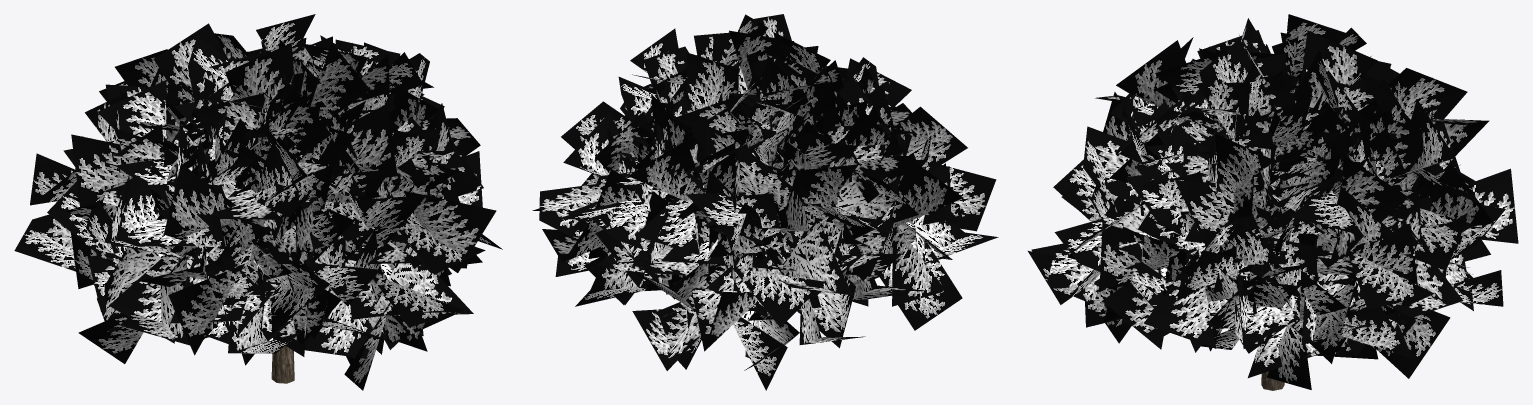
Rendered from tree.glb.
3 views of the same model, side by side, from view 1: azimuth 30°, elevation 25°; view 2: azimuth 150°, elevation 25°; view 3: azimuth 270°, elevation 25° (orthographic). The views are drawn at different scales.
Parts seen in each view (by area): view 1: tree_v0, tree_v1, tree_v2; view 2: tree_v0, tree_v1, tree_v2; view 3: tree_v0, tree_v1, tree_v2.
Part boxes in pixels (x1=…): tree_v0: x1=14, y1=33, x2=502, y2=390; tree_v1: x1=90, y1=14, x2=482, y2=365; tree_v2: x1=154, y1=23, x2=428, y2=354; tree_v0: x1=532, y1=32, x2=998, y2=390; tree_v1: x1=571, y1=14, x2=892, y2=328; tree_v2: x1=620, y1=14, x2=907, y2=306; tree_v0: x1=1028, y1=18, x2=1518, y2=390; tree_v1: x1=1085, y1=39, x2=1462, y2=377; tree_v2: x1=1110, y1=14, x2=1378, y2=337.
Bounding box in the file's own units: 1.31 × 1 × 1.28.
Materials: 3 (3 with a texture image).
